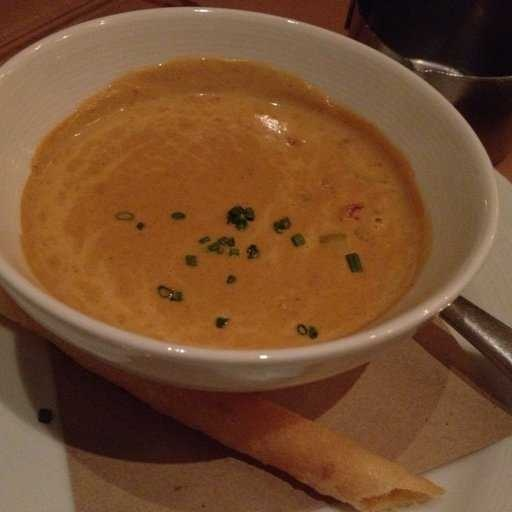soup: (42, 52, 406, 340)
